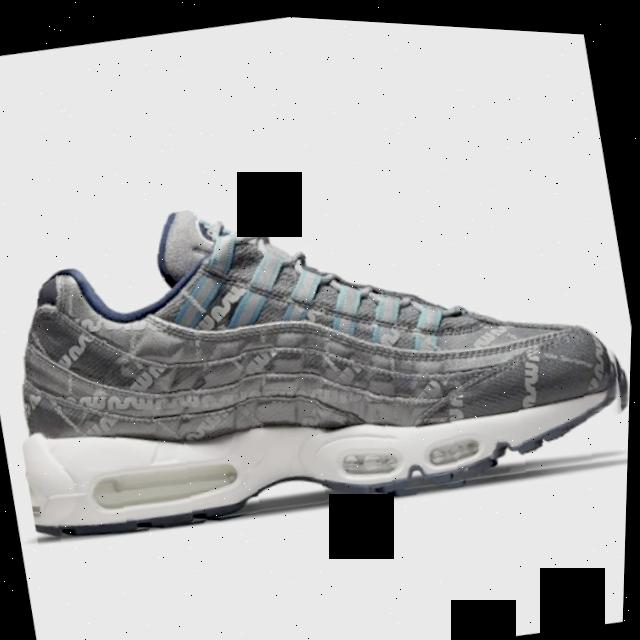shoe: (0, 121, 637, 572)
